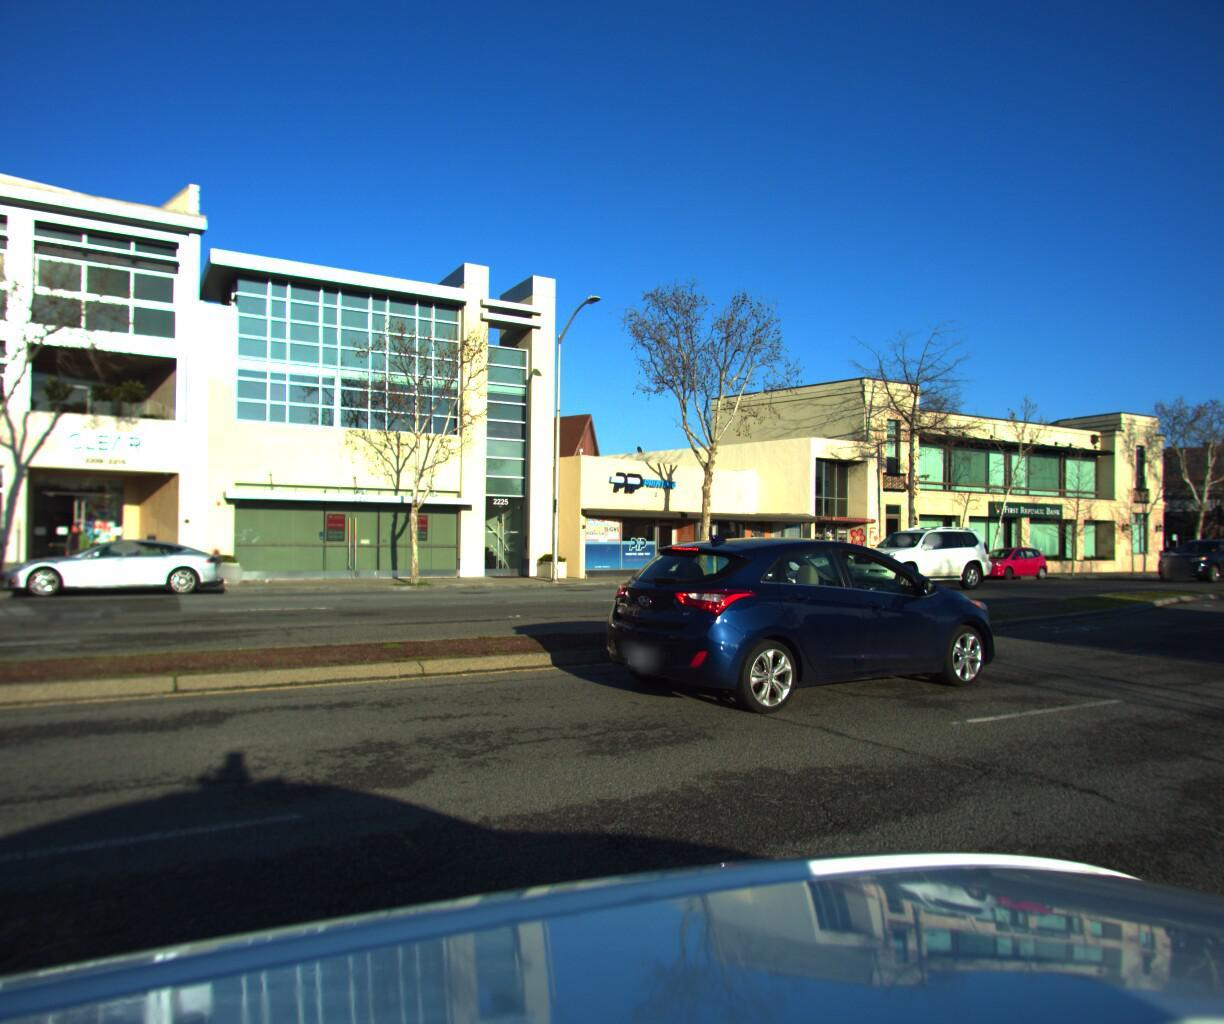car: (578, 511, 1017, 731), (0, 536, 233, 610), (832, 514, 996, 588), (723, 530, 878, 585), (1145, 526, 1224, 576), (956, 539, 1048, 578)
